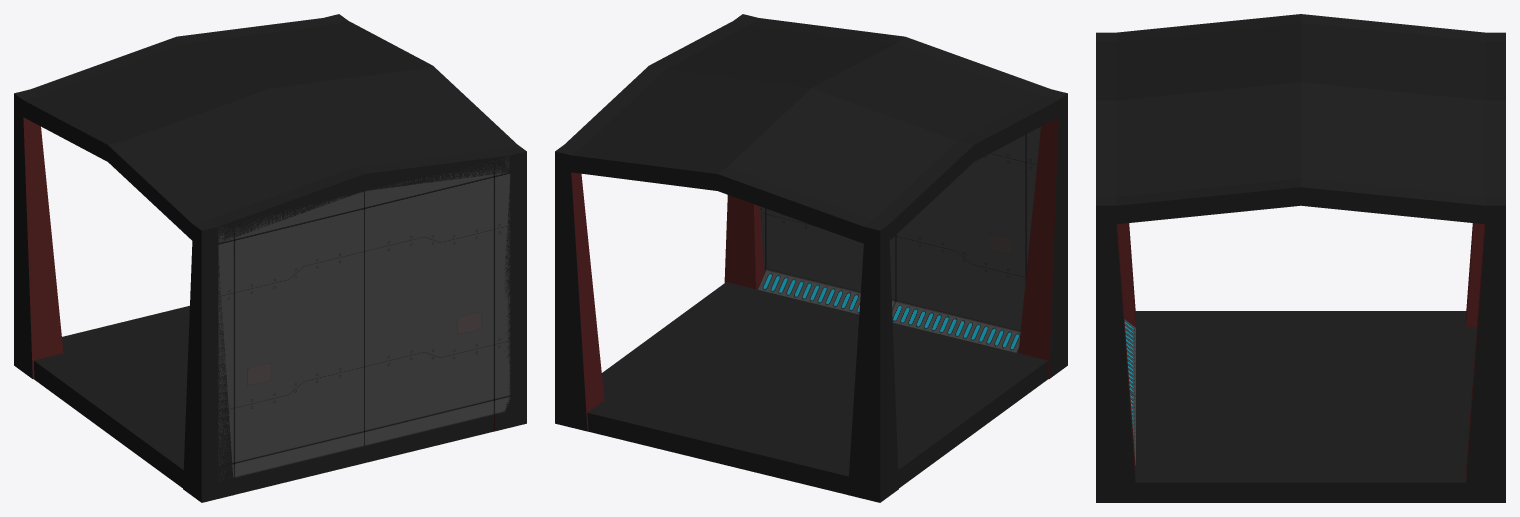
The model's file is 3WayIntersection.fbx.
3 views of the same model, side by side, from view 1: azimuth 30°, elevation 25°; view 2: azimuth 150°, elevation 25°; view 3: azimuth 270°, elevation 25° (orthographic). The views are drawn at different scales.
Parts seen in each view (by area): view 1: Ceiling.001, Walls.001, FloorStraight.001; view 2: Ceiling.001, FloorStraight.001, Walls.001; view 3: Ceiling.001, FloorStraight.001, Walls.001.
Boxes of the visible parts, <box> form: Ceiling.001: <box>14,14,526,502</box>; Walls.001: <box>218,156,510,480</box>; FloorStraight.001: <box>33,305,494,494</box>; Ceiling.001: <box>555,14,1067,502</box>; FloorStraight.001: <box>587,282,1048,494</box>; Walls.001: <box>757,126,1040,352</box>; Ceiling.001: <box>1096,14,1505,502</box>; FloorStraight.001: <box>1135,311,1476,502</box>; Walls.001: <box>1124,319,1135,465</box>.
Size of the model in its own units: 20 by 18.05 by 20.
Materials: 3 (2 with a texture image).
